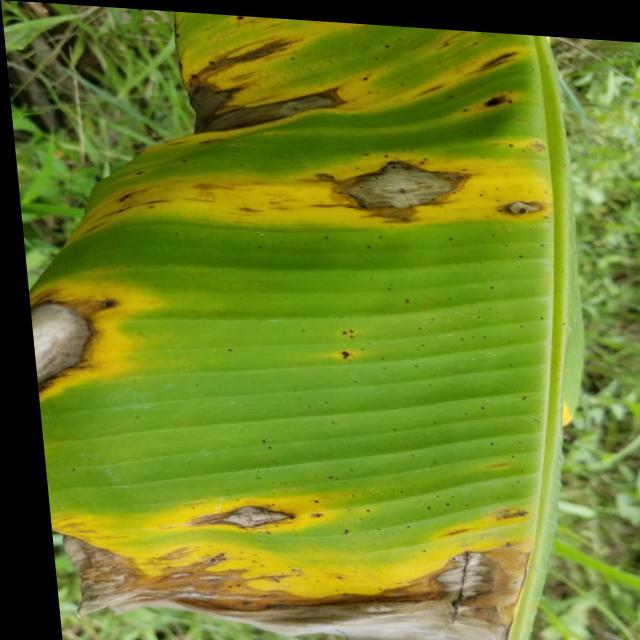Early_rust: (7, 0, 575, 640)
